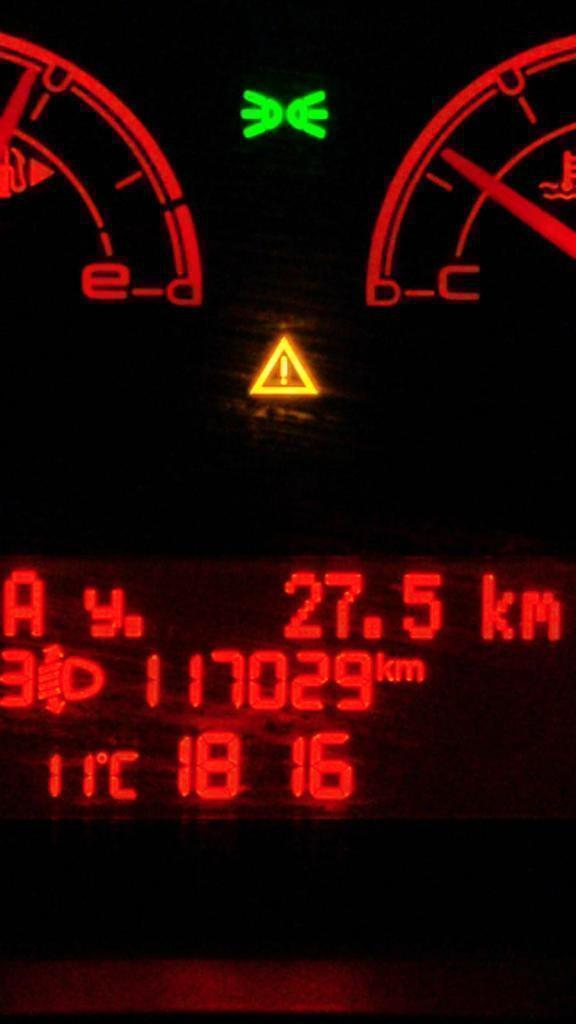,: (365, 613, 386, 641), (125, 612, 144, 637)
0: (249, 648, 287, 712)
1: (166, 731, 192, 799), (138, 646, 164, 710), (284, 731, 306, 800), (182, 648, 205, 710), (75, 747, 96, 799), (43, 750, 64, 799)
2: (278, 565, 324, 642), (288, 648, 333, 713)
3: (1, 646, 35, 710)
5: (397, 567, 445, 643)
6: (310, 725, 358, 803)
7: (324, 565, 364, 640), (207, 645, 246, 710)
8: (195, 727, 242, 803)
9: (333, 646, 374, 714)
X: (1, 563, 49, 638), (477, 568, 517, 643), (79, 581, 126, 638), (520, 587, 565, 643), (107, 746, 140, 802), (393, 656, 429, 682), (375, 646, 394, 685)
odometer: (0, 545, 576, 821)
